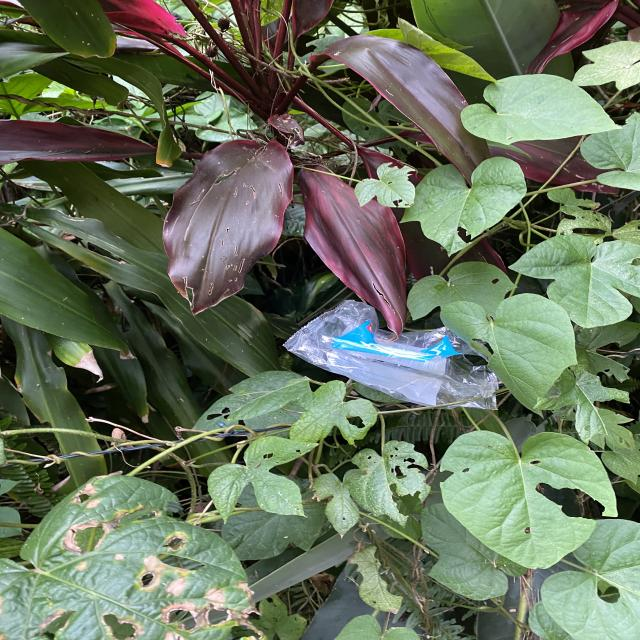wrappers: (282, 299, 499, 410)
